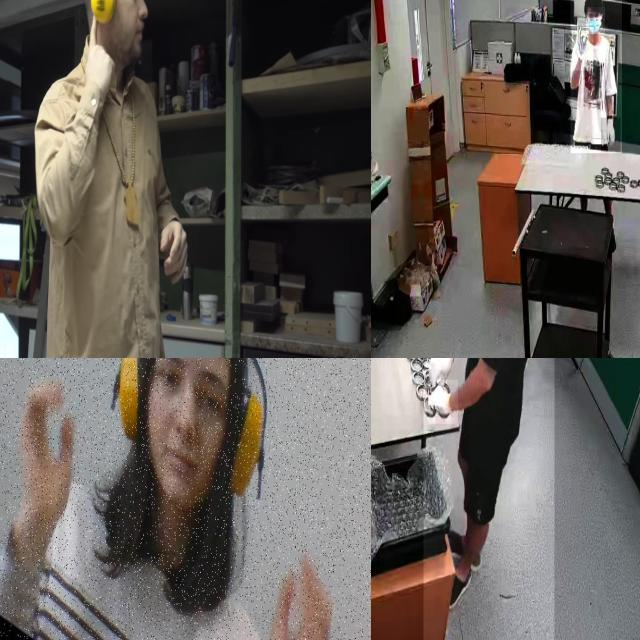Ear-protection: (95, 358, 290, 553), (84, 0, 148, 64)
face_mask: (586, 7, 606, 35)
hand_glove: (428, 380, 458, 425), (572, 27, 594, 71), (421, 358, 456, 384), (601, 118, 621, 153)
head_nohelmet: (583, 0, 602, 6)
person: (423, 358, 554, 640), (570, 0, 622, 154)
shoes: (443, 528, 483, 572), (442, 556, 472, 610)
